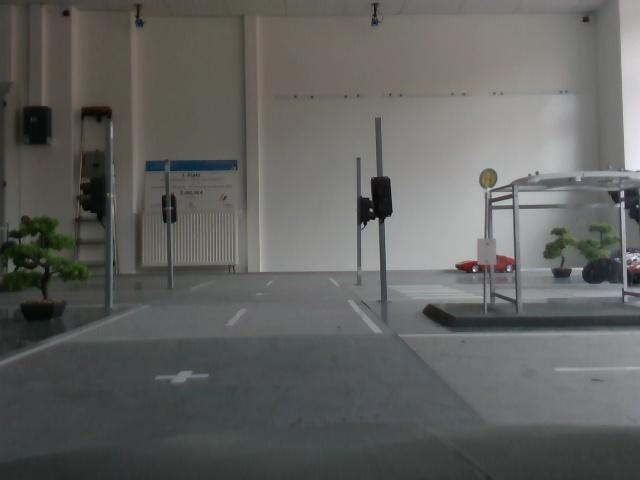car: (456, 253, 514, 274)
potted plant: (12, 207, 82, 332), (589, 218, 620, 288), (548, 223, 579, 281)
traffic light: (83, 173, 114, 224), (371, 169, 397, 229), (160, 191, 178, 239)
